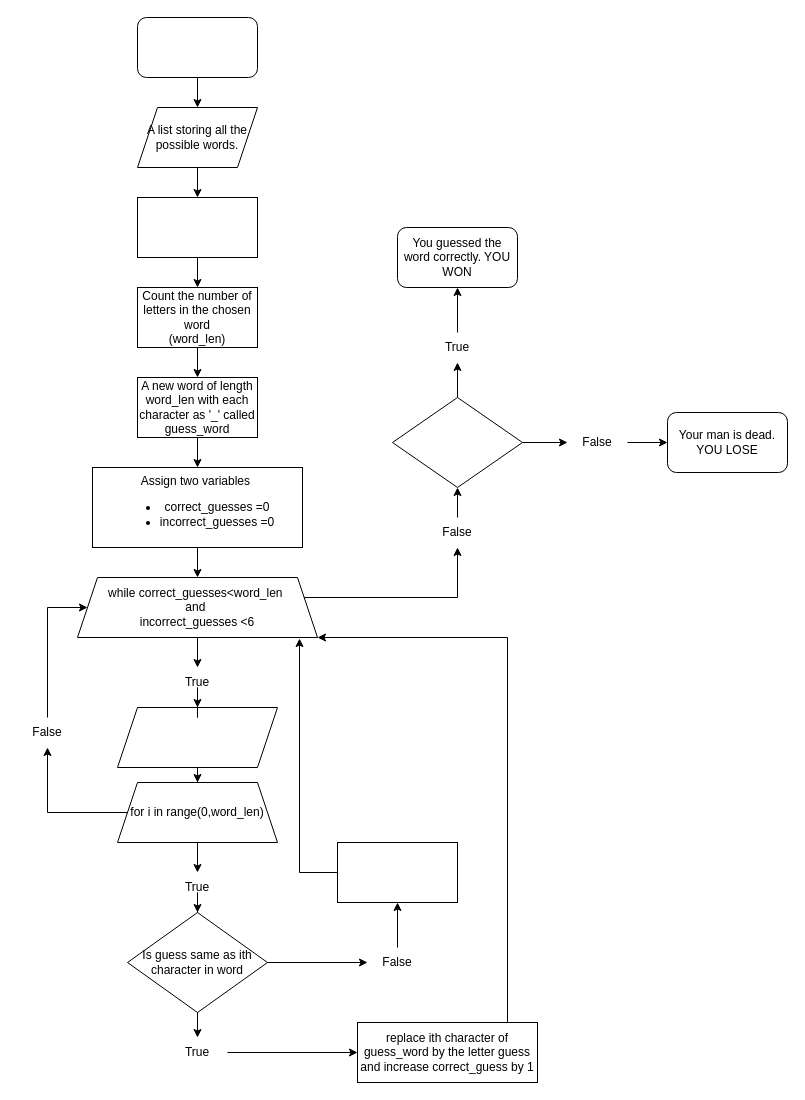
The diagram is 805 pixels wide and 1100 high, and some of its shapes have lost their labels. The box of each missing label's shape, as (x1, y1, x2, y2) in pixels:
Ask user to guess a character and store it in variable guess: (116, 706, 278, 768)
Chose a random word from the list (word): (136, 196, 258, 258)
HANGMAN: (136, 16, 258, 78)
If correct_guess =word_len: (392, 396, 522, 488)
Increase incorrect_guess by 1: (336, 842, 458, 902)
